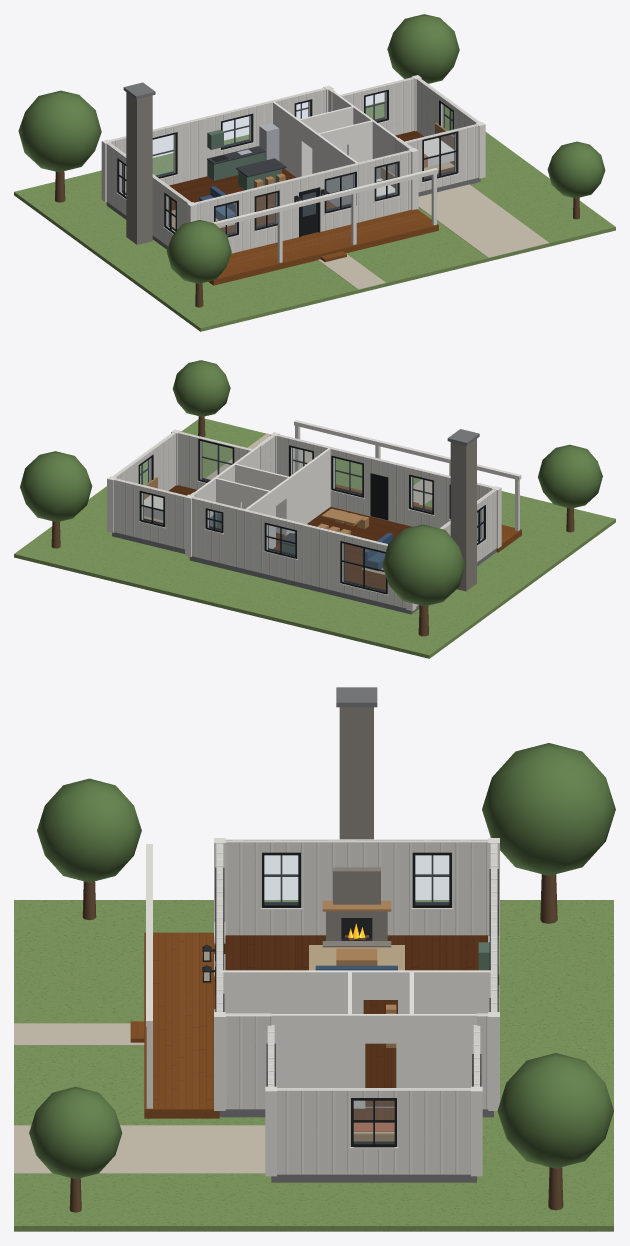
Rendered from farmhouse-white-open.glb.
3 views of the same model, one above another, from view 1: azimuth 30°, elevation 25°; view 2: azimuth 150°, elevation 25°; view 3: azimuth 270°, elevation 25° (orthographic). The views are drawn at different scales.
Parts seen in each view (by area): view 1: lawn, siding, leaves, inner, glass, deck, gravel, trim, frame, stone, wood, cabinet (+8 smaller); view 2: lawn, siding, leaves, inner, glass, frame, trim, stone, wood, foundation, trunk, gravel (+4 smaller); view 3: lawn, siding, leaves, inner, deck, gravel, wood, stone, trim, glass, frame, foundation (+3 smaller).
Part boxes in pixels (box(x1,y1,x2,y2)): lawn: box(14, 101, 615, 331); siding: box(106, 77, 479, 253); leaves: box(18, 14, 605, 283); inner: box(273, 91, 398, 206); glass: box(120, 92, 455, 235); deck: box(208, 209, 438, 285); gravel: box(318, 184, 549, 289); trim: box(101, 75, 485, 262); frame: box(117, 89, 458, 237); stone: box(126, 92, 152, 244); wood: box(169, 131, 454, 233); cabinet: box(207, 129, 281, 190); lawn: box(14, 418, 615, 658); siding: box(112, 431, 496, 608); leaves: box(20, 360, 602, 606); inner: box(194, 446, 330, 548); glass: box(140, 441, 482, 591); frame: box(138, 438, 485, 594); trim: box(107, 420, 521, 610); stone: box(450, 439, 476, 591); wood: box(169, 485, 412, 589); foundation: box(112, 429, 496, 614); trunk: box(51, 416, 574, 636); gravel: box(205, 433, 432, 505); lawn: box(14, 900, 613, 1231); siding: box(216, 839, 497, 1174); leaves: box(29, 743, 615, 1179); inner: box(219, 970, 493, 1108); deck: box(130, 932, 219, 1118); gravel: box(14, 1023, 265, 1173); wood: box(224, 935, 488, 1122); stone: box(322, 707, 391, 947); trim: box(146, 838, 499, 1176); glass: box(264, 855, 448, 1143); frame: box(215, 852, 498, 1147); foundation: box(219, 687, 493, 1182).
Bounding box in the file's own units: 0.4691 × 0.1586 × 0.3511.
Materials: 32 (6 with a texture image).
